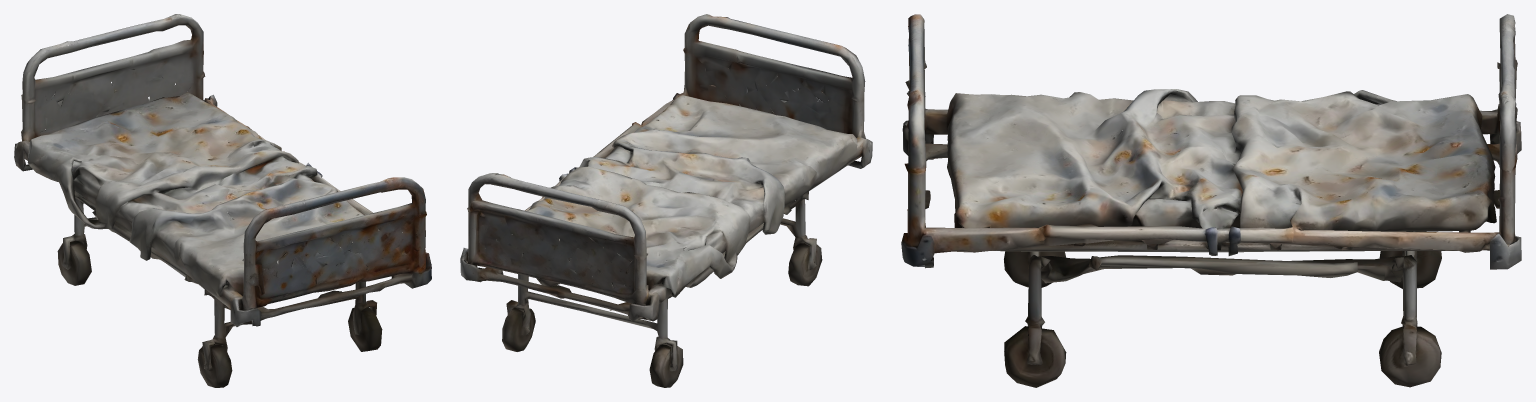
The model's file is hospital_bed.glb.
3 views of the same model, side by side, from view 1: azimuth 30°, elevation 25°; view 2: azimuth 150°, elevation 25°; view 3: azimuth 270°, elevation 25° (orthographic). The views are drawn at different scales.
Visible parts, largest first — view 1: hospital_bed / mesh; view 2: hospital_bed / mesh; view 3: hospital_bed / mesh.
Part boxes in pixels (x1=…): hospital_bed / mesh: x1=14, y1=14, x2=431, y2=387; hospital_bed / mesh: x1=460, y1=14, x2=872, y2=387; hospital_bed / mesh: x1=901, y1=14, x2=1521, y2=387.
Bounding box in the file's own units: 1.1 × 1.06 × 2.15.
1 material, 1 textured.
